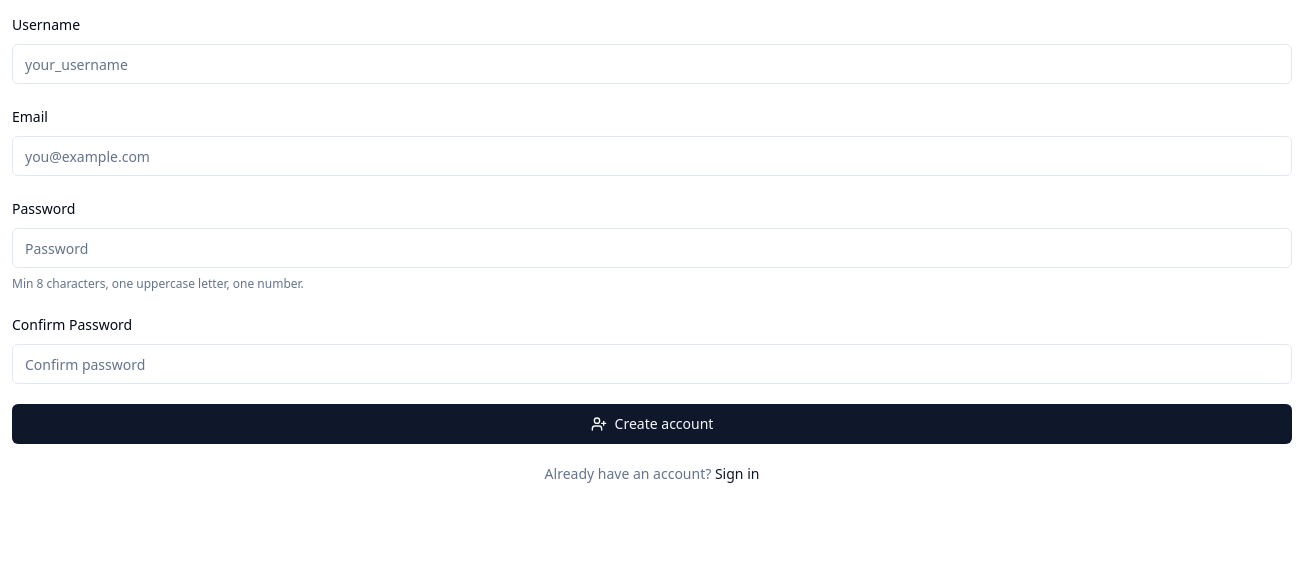
Test: RegisterForm › rejects invalid email
In the field labelled "Email": coordinates (652, 156) [12,136,1292,176], type "not-an-email"
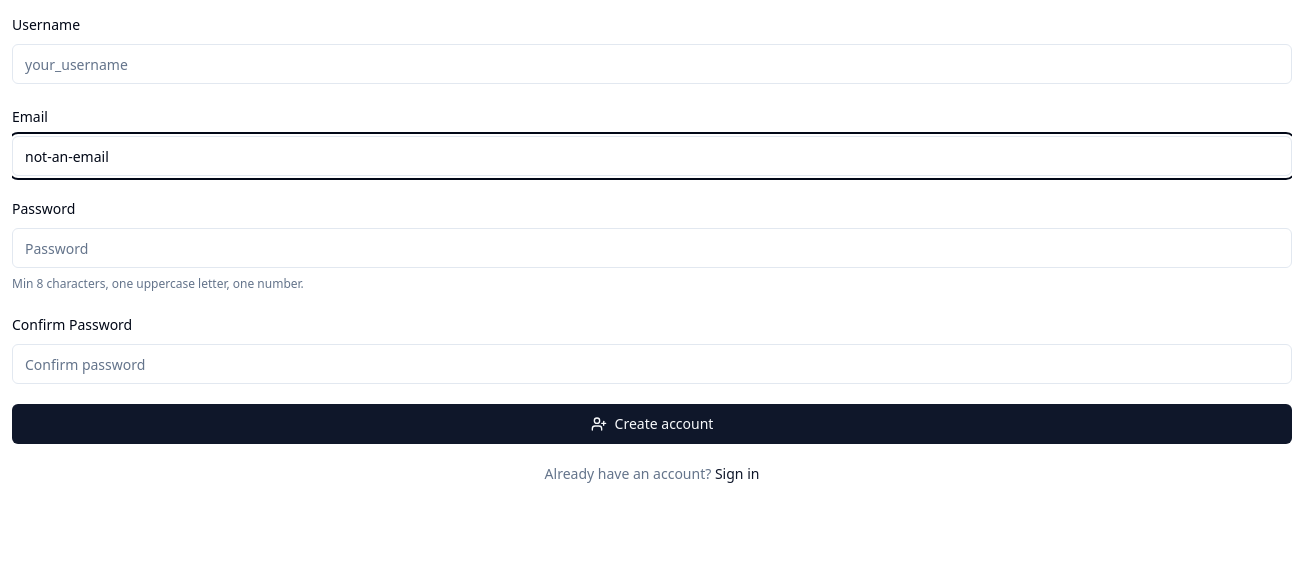
Click the button "Create account": coordinates (652, 424) [12,404,1292,444]
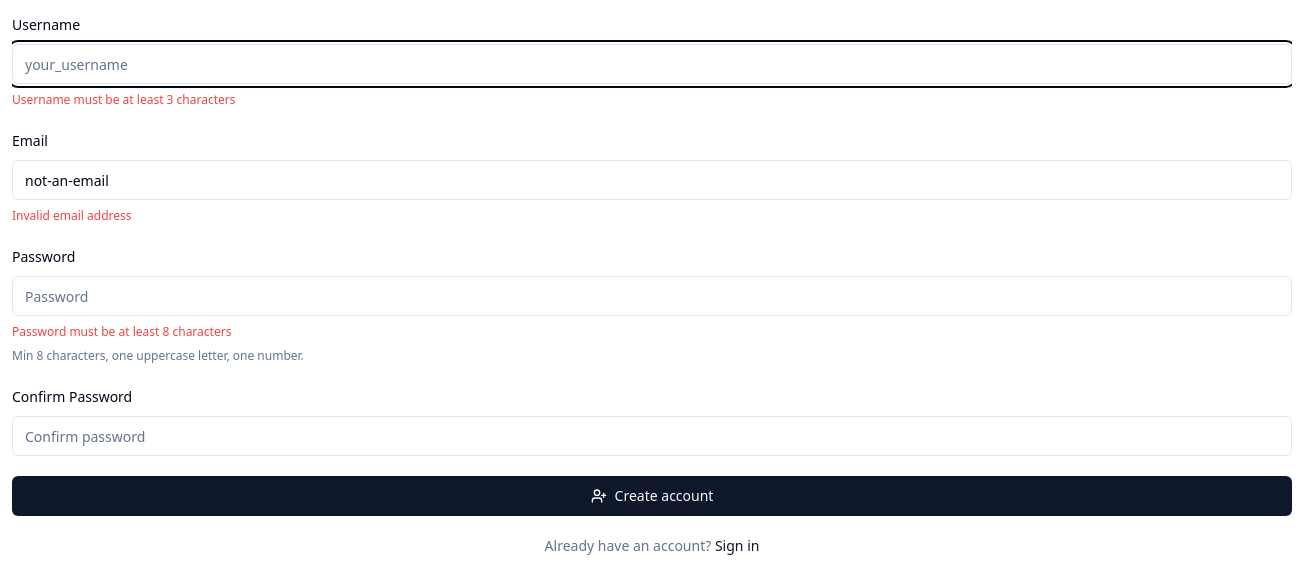
Check: the text "Invalid email address" is shown, box [12,207,132,224]
